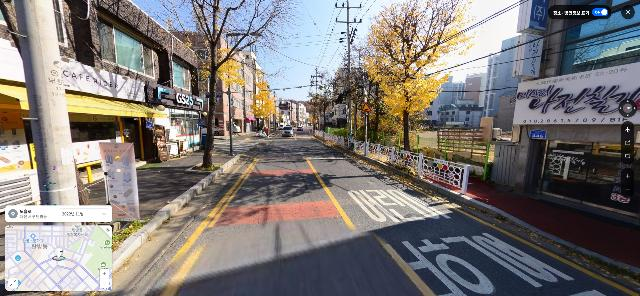ginkgo: (143, 1, 303, 169), (348, 1, 479, 154), (249, 72, 278, 133)
other: (314, 57, 366, 144), (305, 91, 335, 135)
